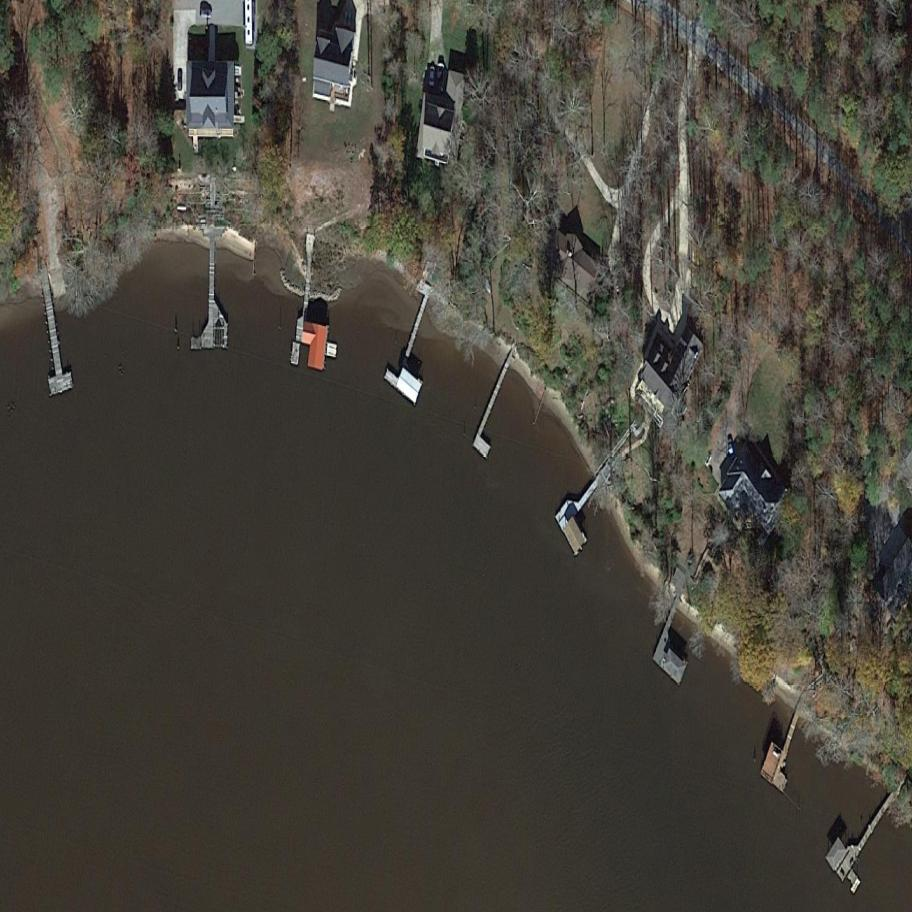ship: (436, 63, 446, 93)
small-vehicle: (726, 437, 737, 462), (427, 66, 436, 89), (177, 68, 182, 90)
